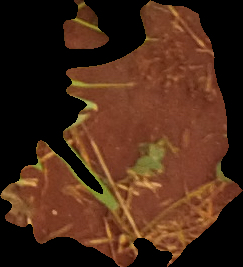soil: (1, 2, 243, 265)
